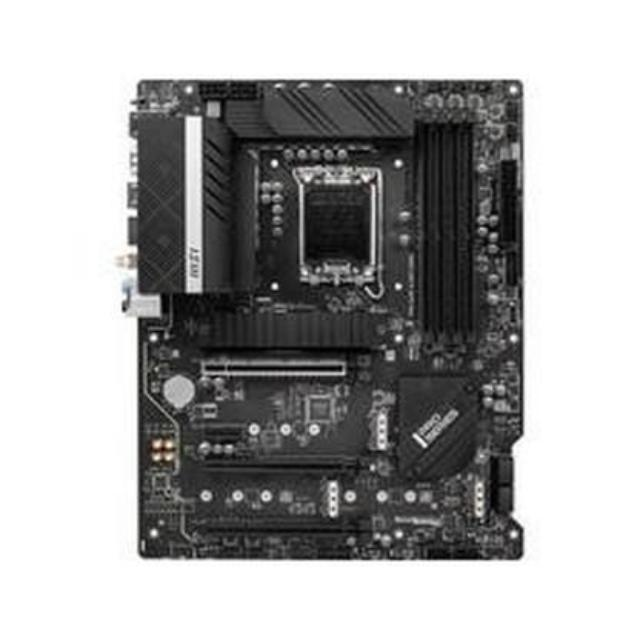Mainboard: (112, 70, 532, 572)
